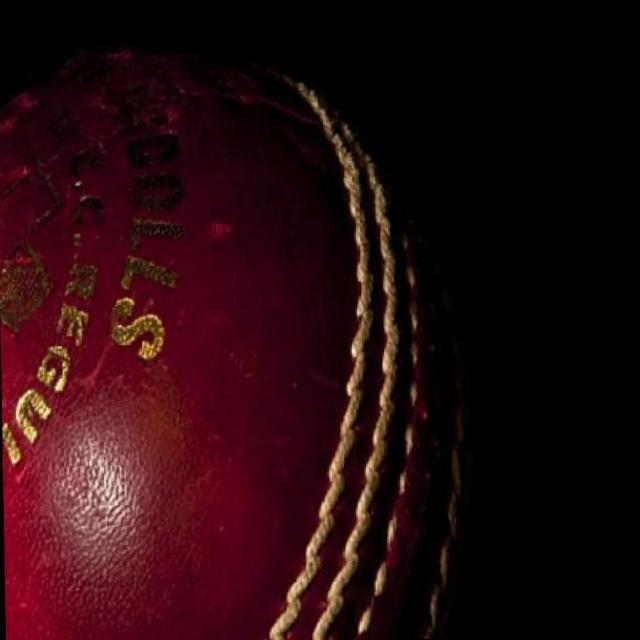Red_Ball: (1, 53, 464, 629)
